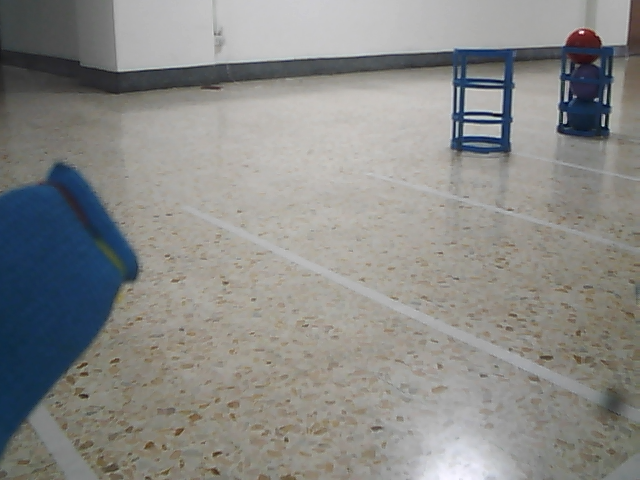Blue ball: (566, 97, 601, 134)
Cyro: (449, 49, 516, 156), (557, 46, 615, 141)
Purple ball: (569, 63, 605, 98)
Red ball: (563, 28, 605, 64)
